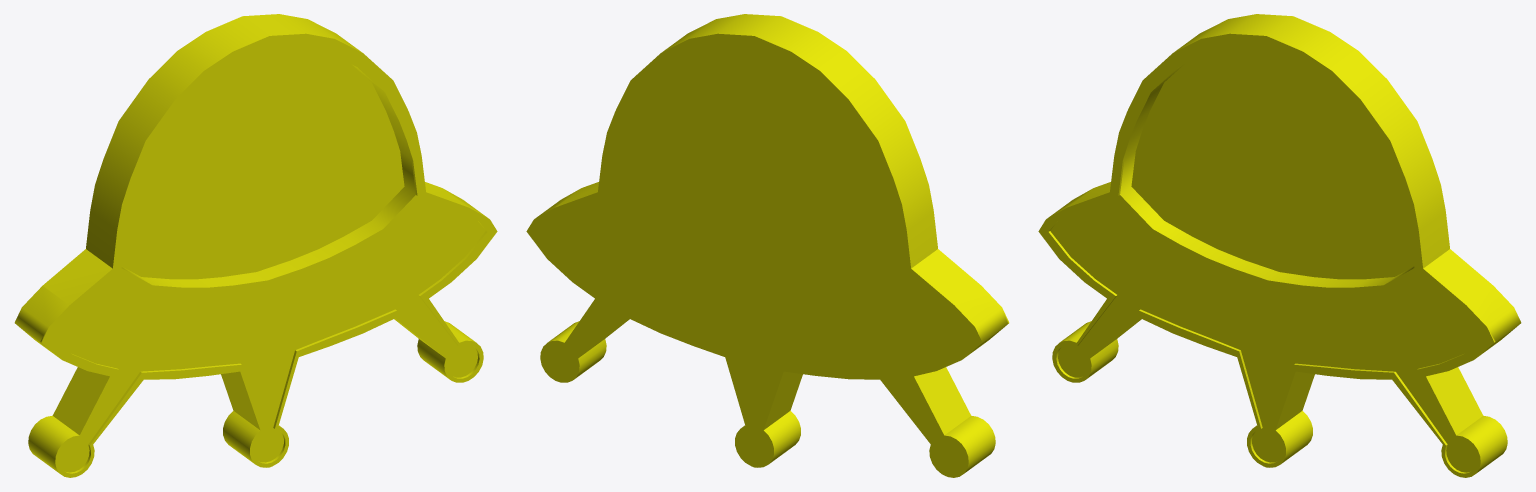
The model's file is Colission_Reference.fbx.
The picture shows the model from 3 angles, left to right: view 1: azimuth 30°, elevation 25°; view 2: azimuth 150°, elevation 25°; view 3: azimuth 330°, elevation 25°; orthographic projection.
Visible parts, largest first — view 1: Collision_Reference; view 2: Collision_Reference; view 3: Collision_Reference.
Boxes of the visible parts, bbox=[...] form: Collision_Reference: bbox=[14, 14, 497, 477]; Collision_Reference: bbox=[526, 14, 1009, 477]; Collision_Reference: bbox=[1038, 14, 1521, 477].
Size of the model in its own units: 51.84 by 46.87 by 5.31.
